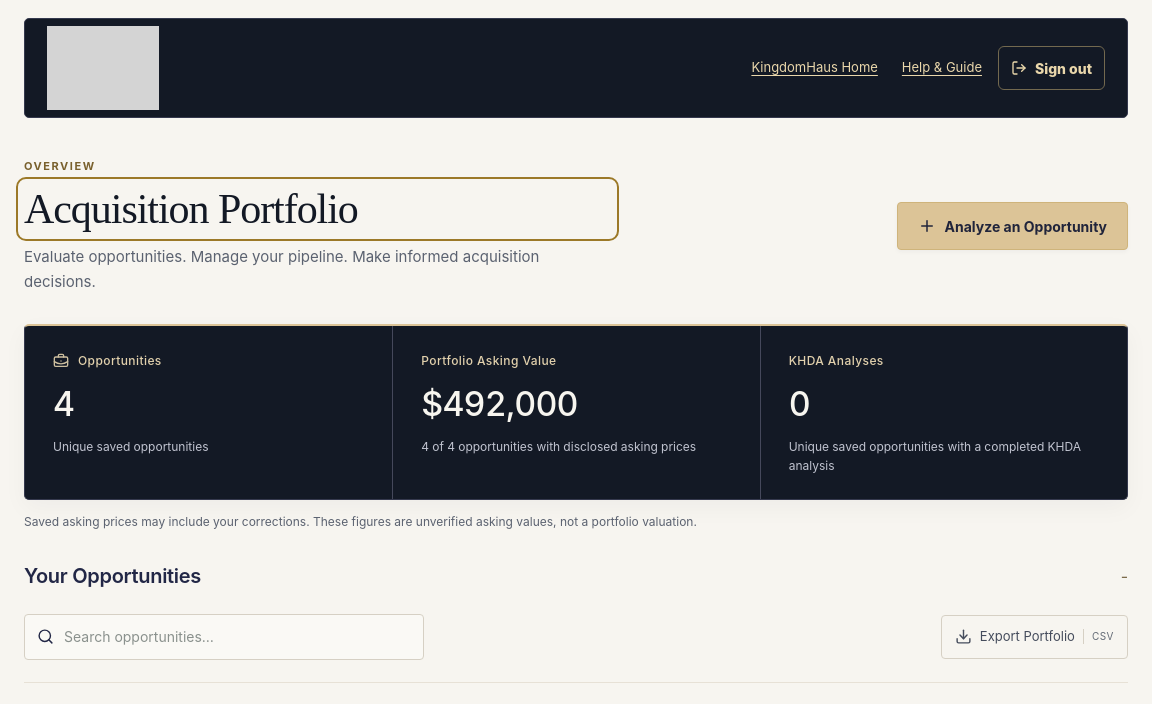
Test: private workspace integration using synthetic SDK accounts and records › clears the visible portfolio immediately when sign-out starts, even before SDK completion
The image size is (1152, 704).
Click the button "Sign out". click: (1052, 68)
box: [998, 46, 1105, 90]
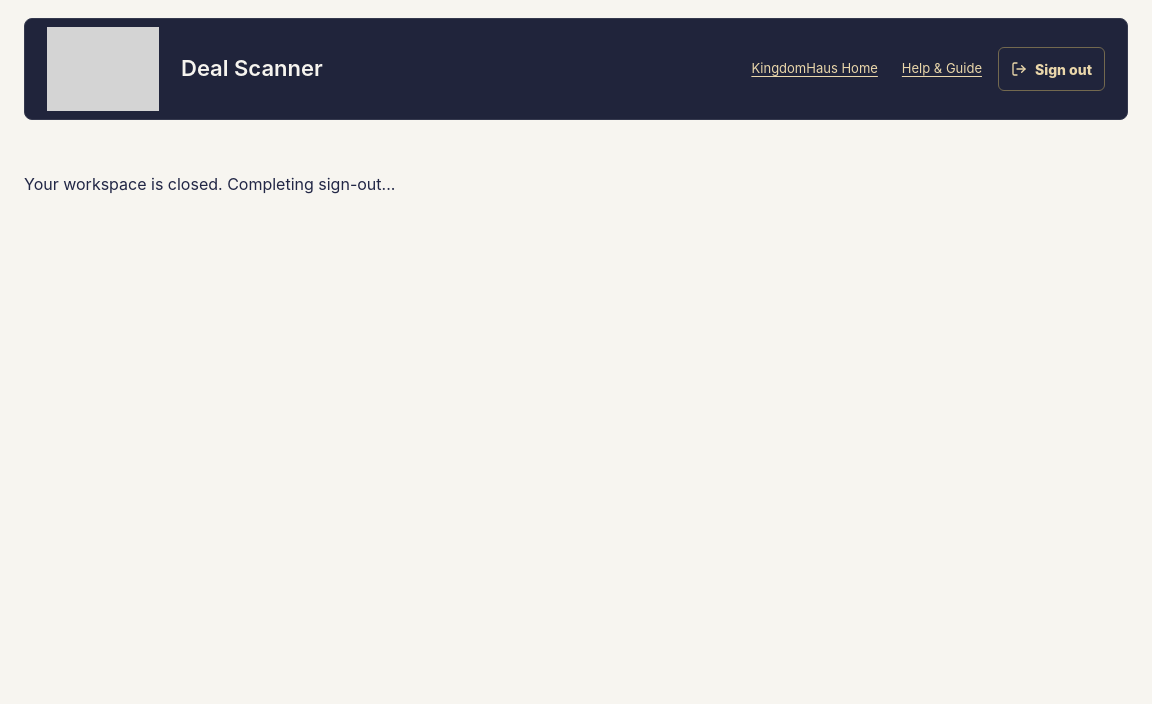
Expected: the text "Example Service Group 01" is not shown
Expected: the heading "Acquisition Portfolio" is gone
Expected: the message shows "workspace is closed", [24, 174, 395, 194]
